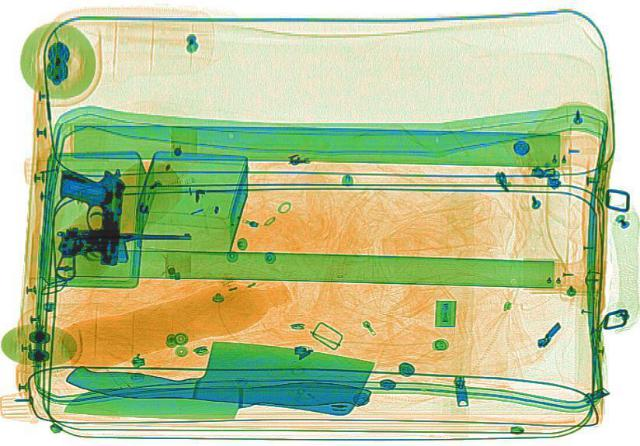Gun: (51, 224, 190, 283), (52, 166, 126, 264)
Knife: (60, 319, 374, 426), (62, 369, 372, 423)
